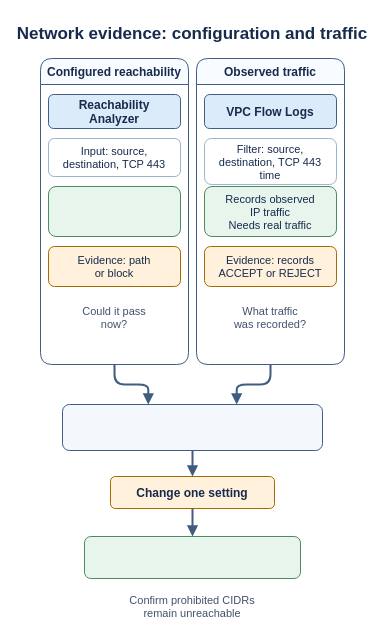
This 384x637 diagram has some shape labels left out. Here are the shapes that lost their labels. From the top down, the centre of each, then its label:
the point at 114,211: Analyzes route and controls No test packets
the point at 192,427: Compare both kinds of evidence Narrow one configuration change
the point at 192,557: Retest same source, destination, and port
